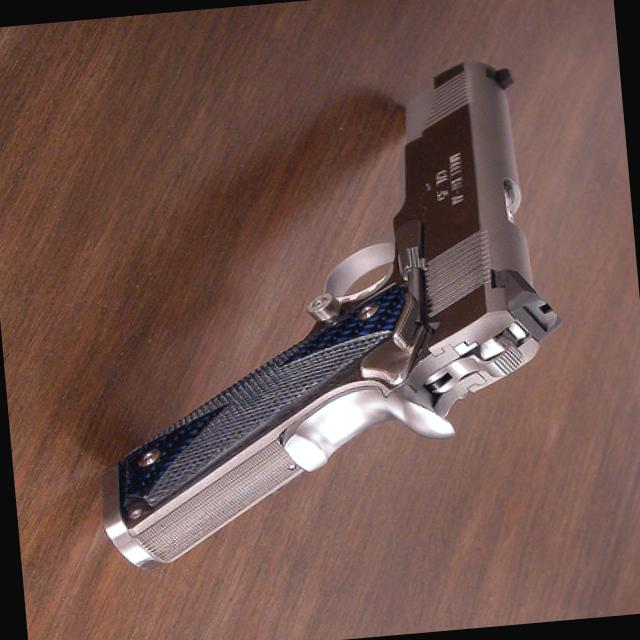handgun: (56, 50, 582, 571)
